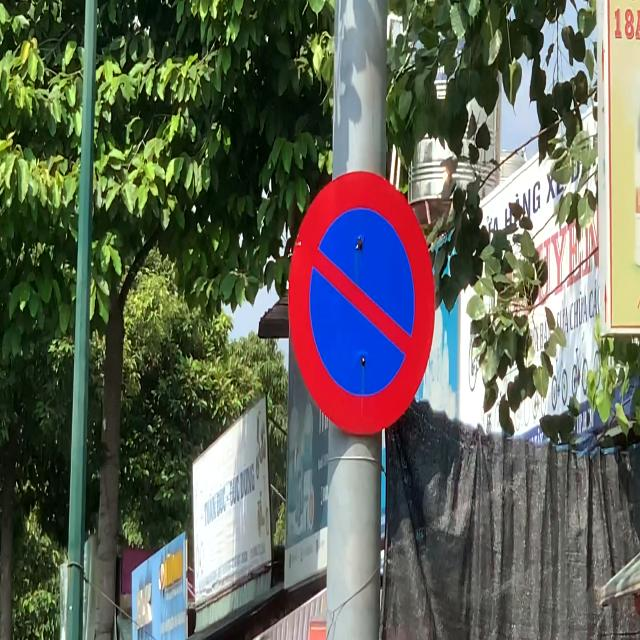P.131a: (284, 159, 440, 448)
